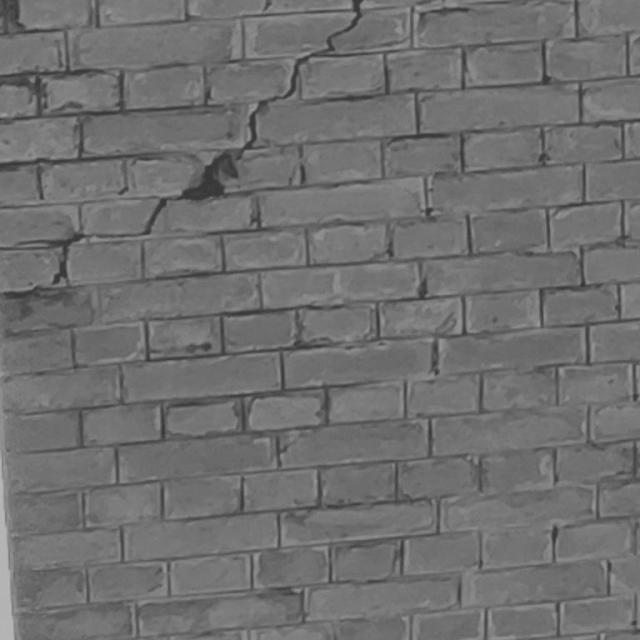crack: (1, 1, 364, 298)
